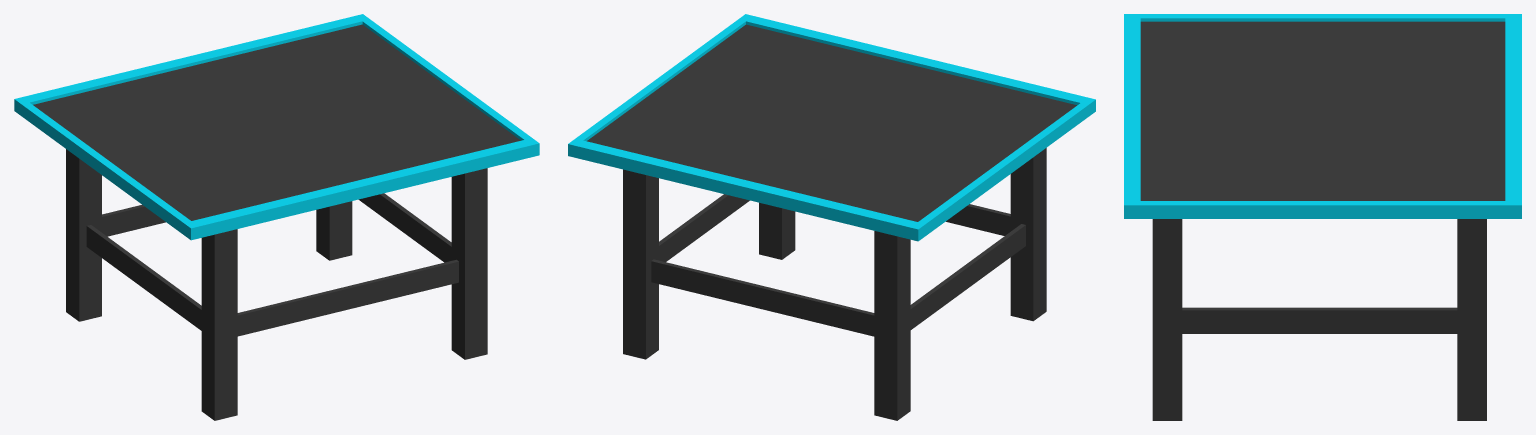
The model's file is table-by-poly-by-google-cgSY9V8p06a.glb.
The picture shows the model from 3 angles, left to right: view 1: azimuth 30°, elevation 25°; view 2: azimuth 150°, elevation 25°; view 3: azimuth 270°, elevation 25°; orthographic projection. The views are drawn at different scales.
Visible parts, largest first — view 1: Box009, Box012, Box011, Box014, Box003, Box015, Box016, Box010, Box013; view 2: Box009, Box003, Box010, Box012, Box013, Box015, Box016, Box011, Box014; view 3: Box009, Box016, Box011, Box010.
Part boxes in pixels (x1,y1,x2,y2): Box009: [14, 14, 539, 240]; Box012: [201, 229, 237, 420]; Box011: [451, 168, 487, 359]; Box014: [237, 259, 458, 336]; Box003: [66, 149, 101, 321]; Box015: [86, 225, 201, 330]; Box016: [358, 193, 451, 262]; Box010: [316, 201, 352, 260]; Box013: [102, 205, 165, 236]; Box009: [568, 14, 1095, 241]; Box003: [874, 231, 910, 420]; Box010: [623, 169, 658, 359]; Box012: [1010, 148, 1046, 321]; Box013: [651, 259, 874, 336]; Box015: [910, 224, 1025, 329]; Box016: [659, 194, 749, 261]; Box011: [759, 202, 795, 259]; Box014: [946, 204, 1010, 235]; Box009: [1124, 14, 1521, 218]; Box016: [1182, 307, 1457, 333]; Box011: [1152, 219, 1182, 420]; Box010: [1457, 219, 1486, 420].
Bounding box in the file's own units: 45467 × 26261 × 39925.
